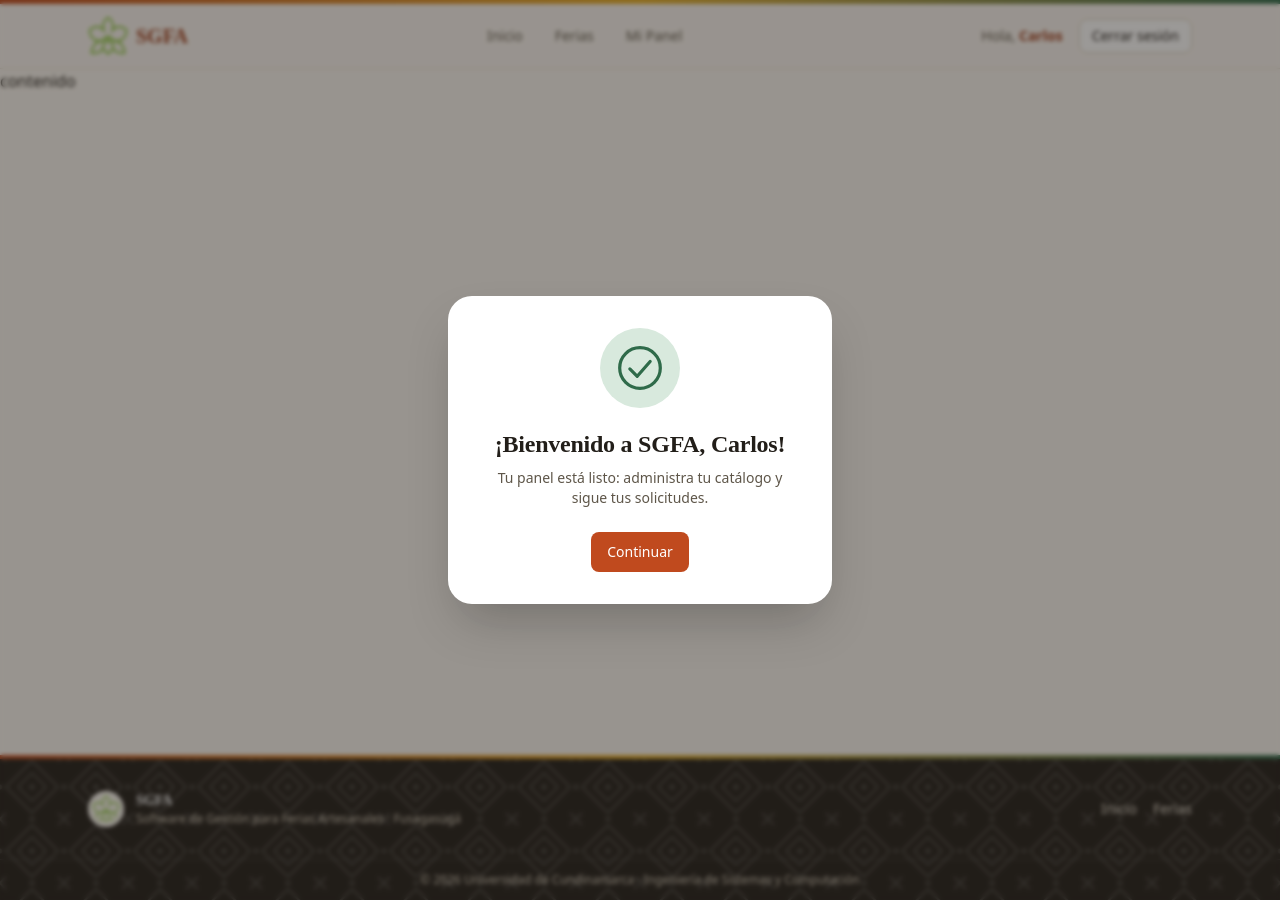
Test case: Layout: sombra del encabezado al desplazar › bienvenida al iniciar sesión › aparece cuando la persona inicia sesión y se puede cerrar
Expected: the heading "¡Bienvenido a SGFA, Carlos!" is shown, [480,428,800,460]
Click the button "Continuar" at (640, 552), box [591,532,689,572]
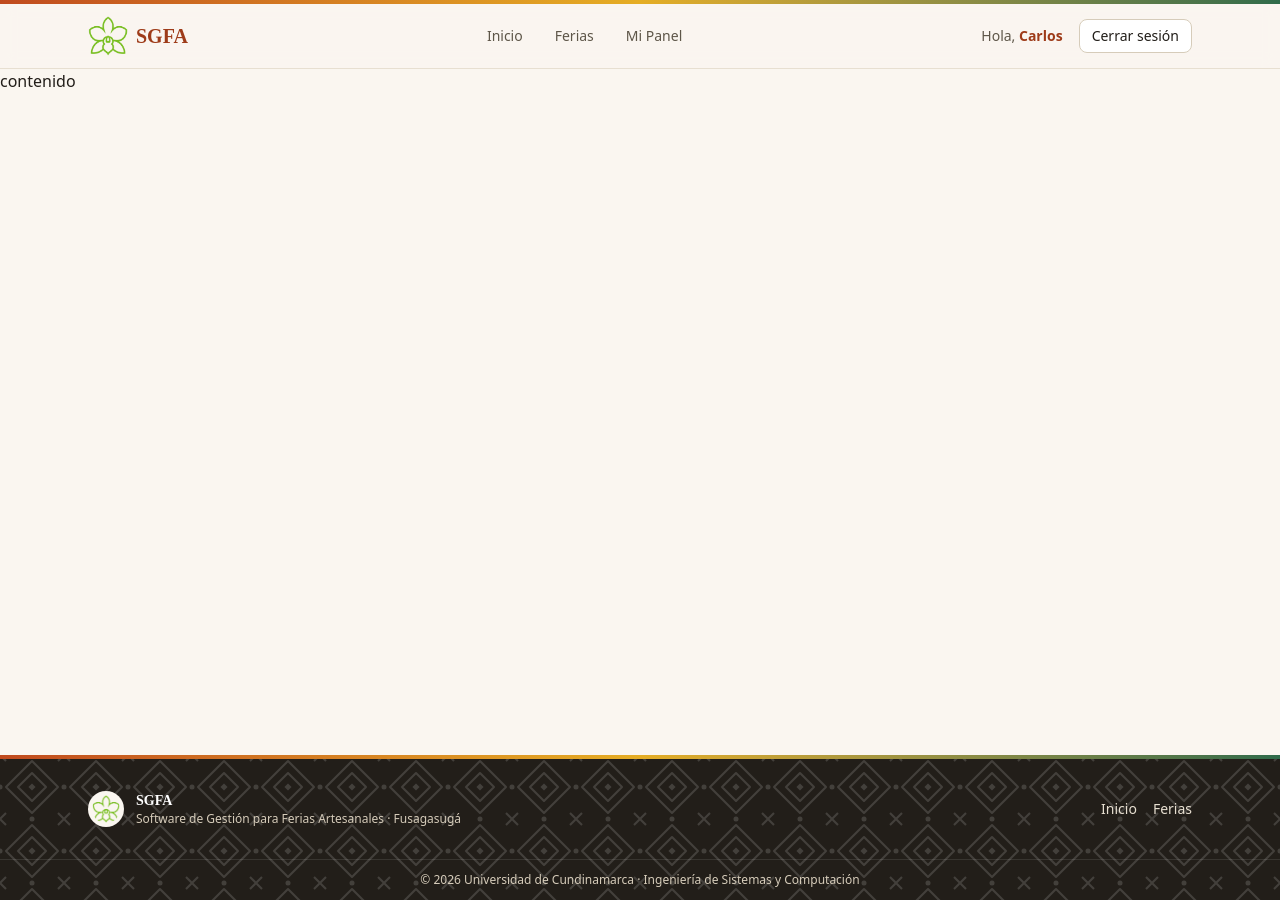
Expected: the heading "Bienvenido a SGFA" is gone
